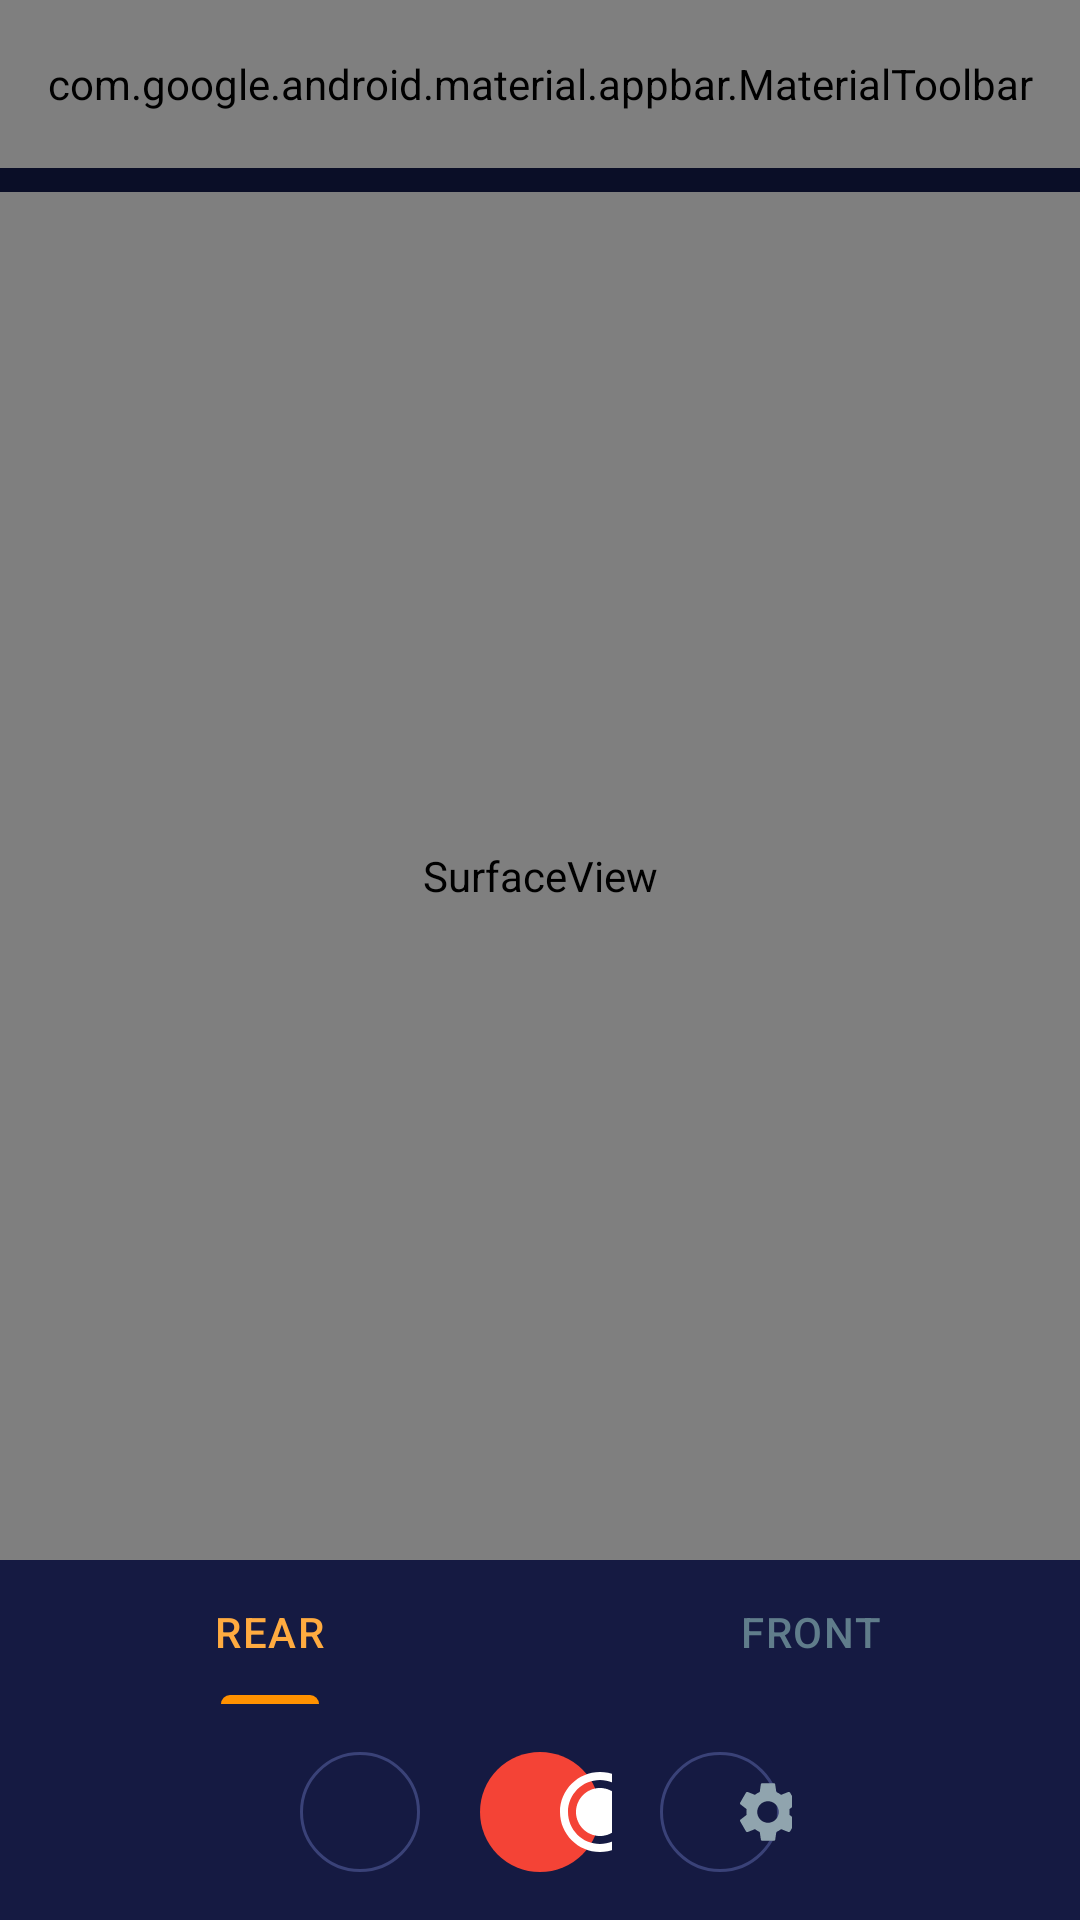

Icons on this 1080x1920 Android screen, each with the point to tap as (x,y):
Capture: (546,1812)
Settings: (726,1812)
